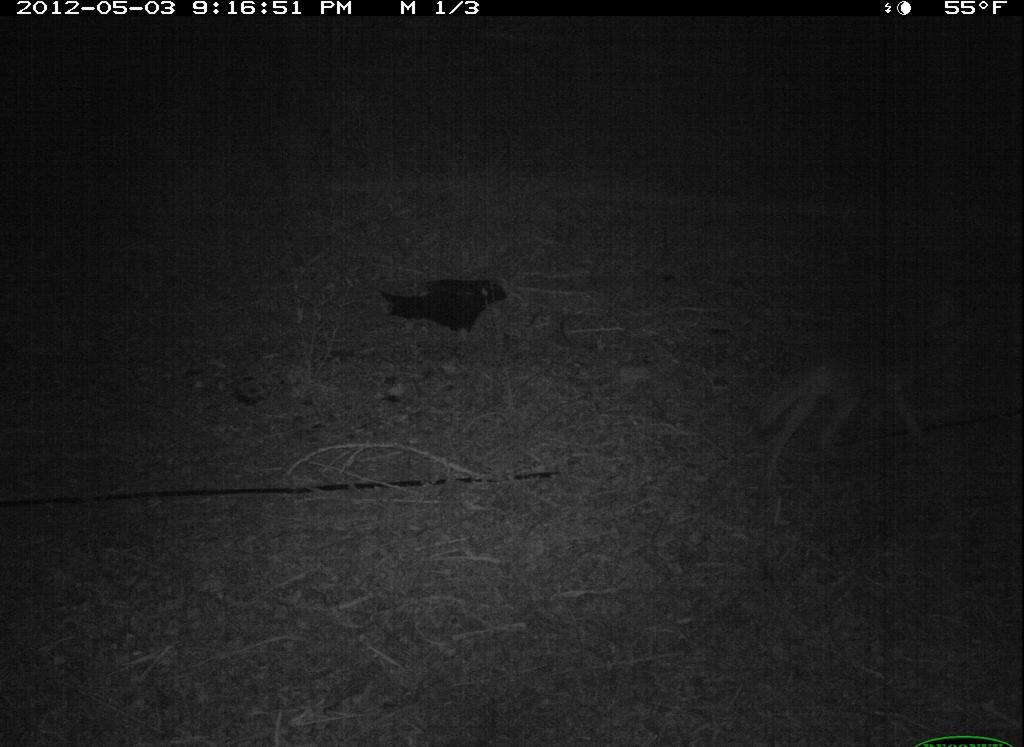coyote: (739, 322, 984, 498)
